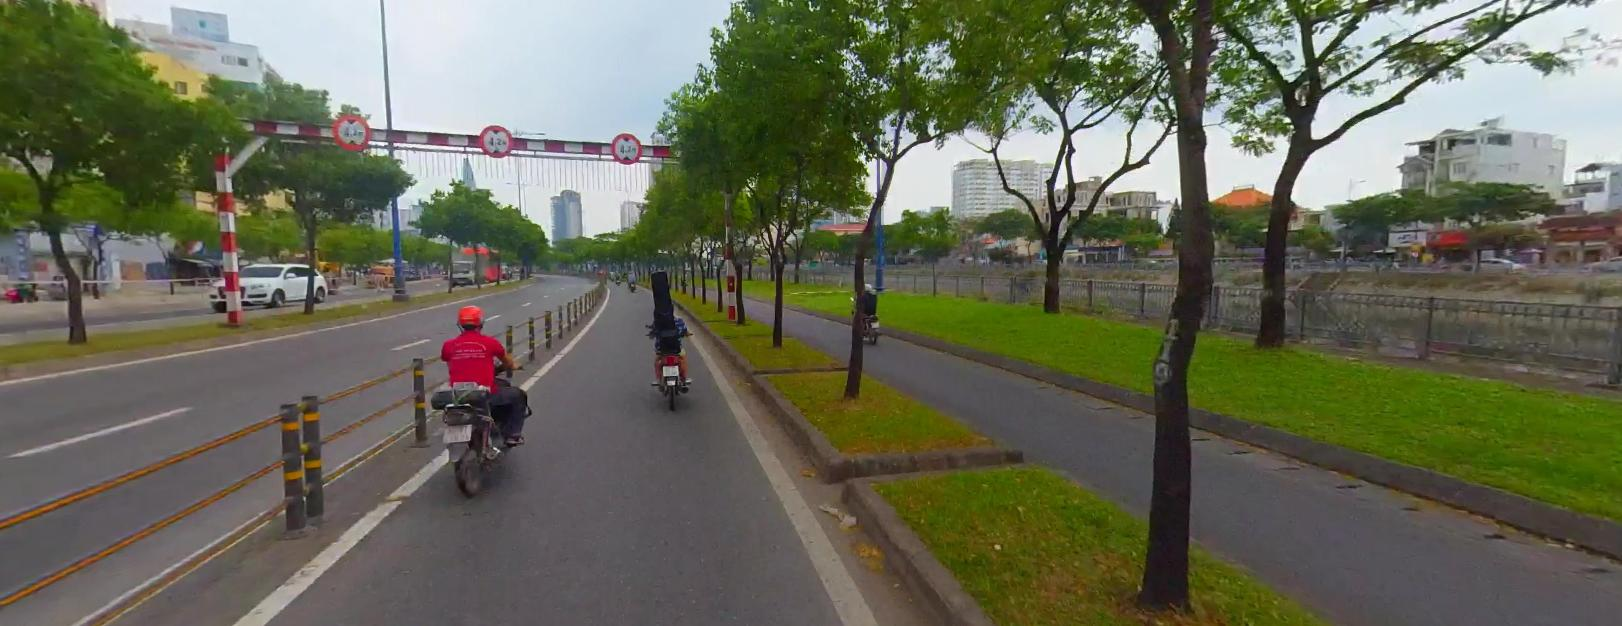Cam con lai: (333, 111, 369, 150), (478, 121, 513, 158), (333, 114, 370, 148), (610, 129, 640, 165), (479, 124, 511, 157), (610, 132, 640, 163)
